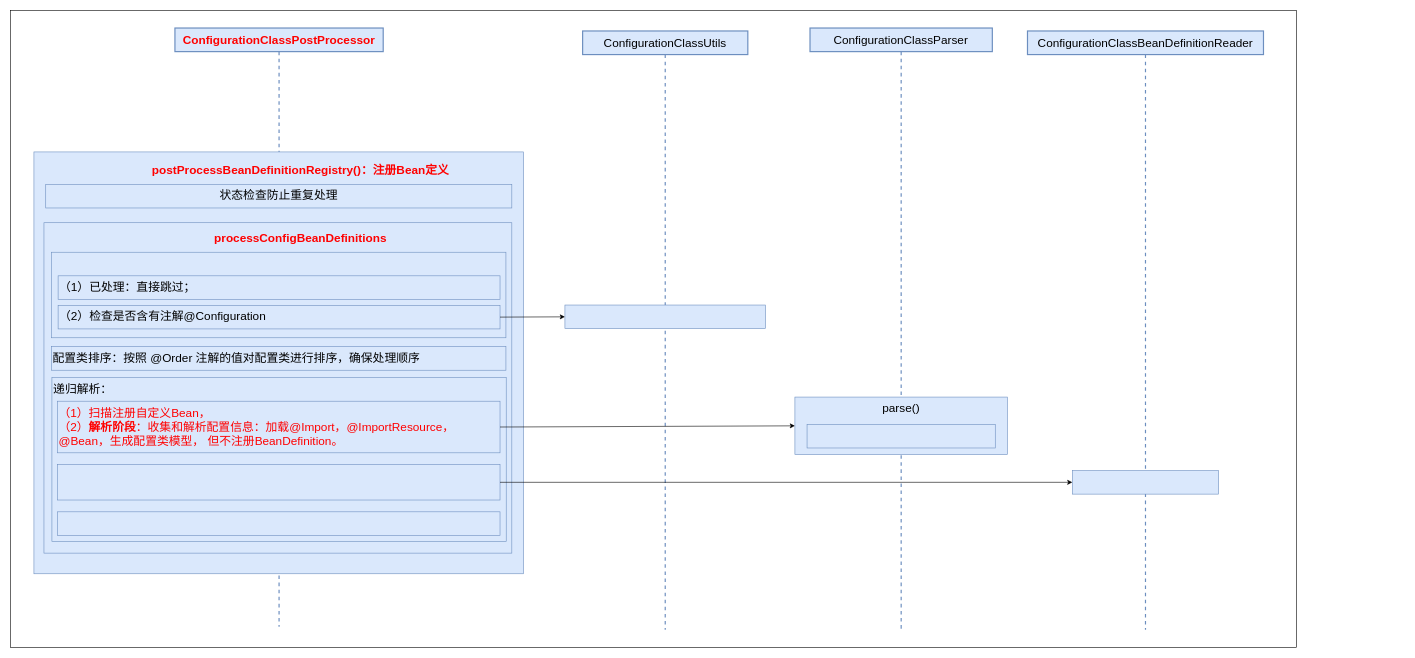
Some shapes in this 1415 by 658 pixel diagram are drawn without their labels. The box of each missing label's shape, as (x1, y1, x2, y2) in pixels:
checkConfigurationClassCandidate(): (564, 304, 766, 329)
doProcessConfigurationClass(): (806, 424, 995, 448)
loadBeanDefinitions(): (1072, 470, 1219, 494)
从新加载的Bean中查找新的 @Configuration类，递归解析: (57, 511, 500, 535)
注册阶段 ：加载 @Import， @ImportResource ，@Bean注解定义的Bean， 创建和注册BeanDefinition到Spring容器: (57, 464, 500, 500)
筛选配置类候选者：: (51, 252, 506, 338)
